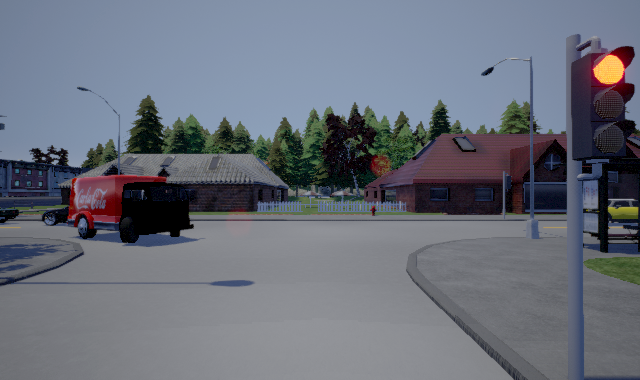traffic_light: (571, 36, 636, 181)
vehicle: (42, 175, 194, 243), (608, 199, 638, 223)
